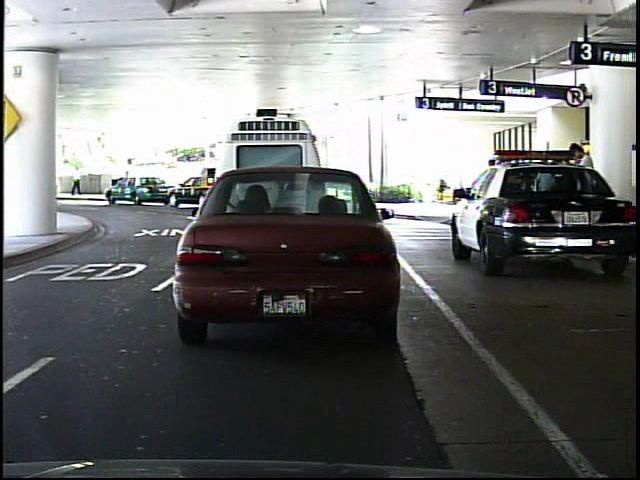person: (565, 136, 603, 247), (118, 167, 137, 200), (71, 162, 85, 197)
